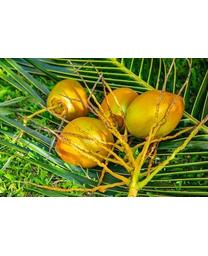coconut: (127, 85, 184, 142), (53, 118, 112, 166), (94, 89, 137, 135), (42, 79, 91, 119)
